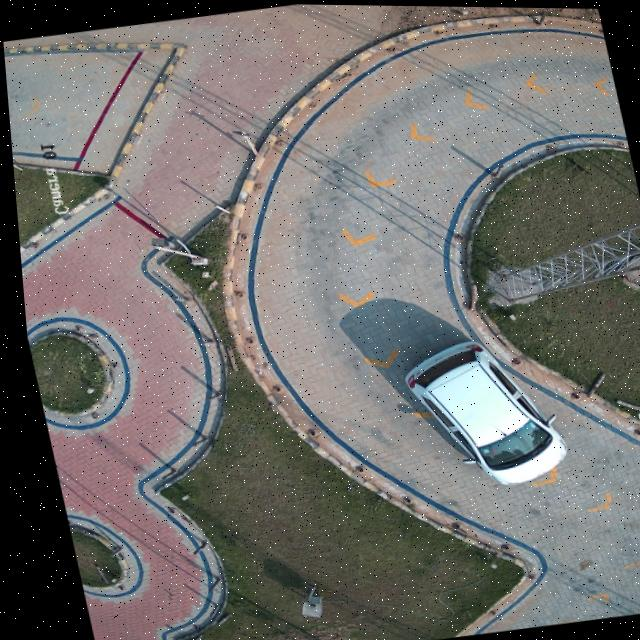car: (399, 340, 558, 484)
